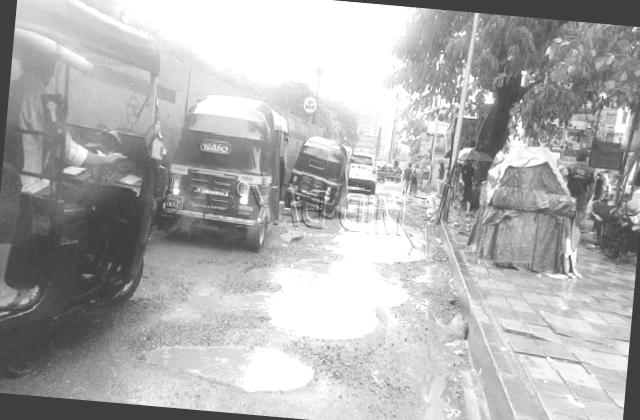Pothole: (233, 244, 404, 359), (125, 331, 313, 401), (132, 218, 255, 288), (290, 206, 430, 262), (416, 226, 466, 298)
